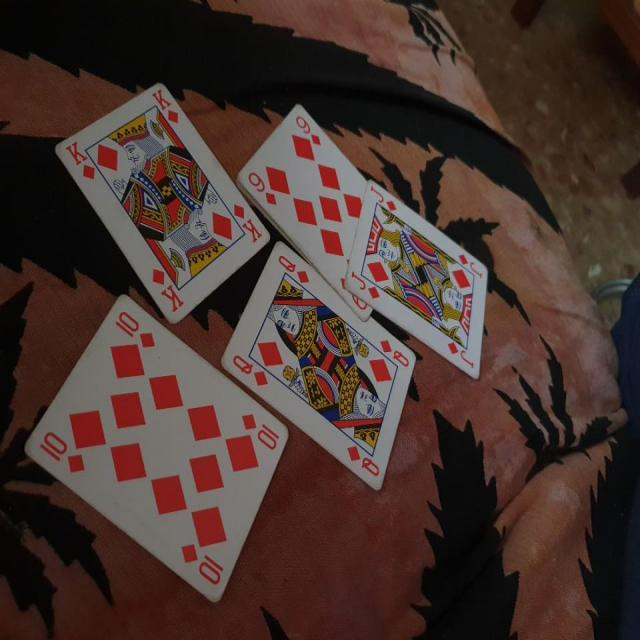10 Diamonds: (22, 294, 288, 606)
9 Diamonds: (233, 102, 376, 324)
J Diamonds: (344, 178, 489, 380)
K Diamonds: (54, 78, 269, 326)
Q Diamonds: (218, 238, 418, 492)
